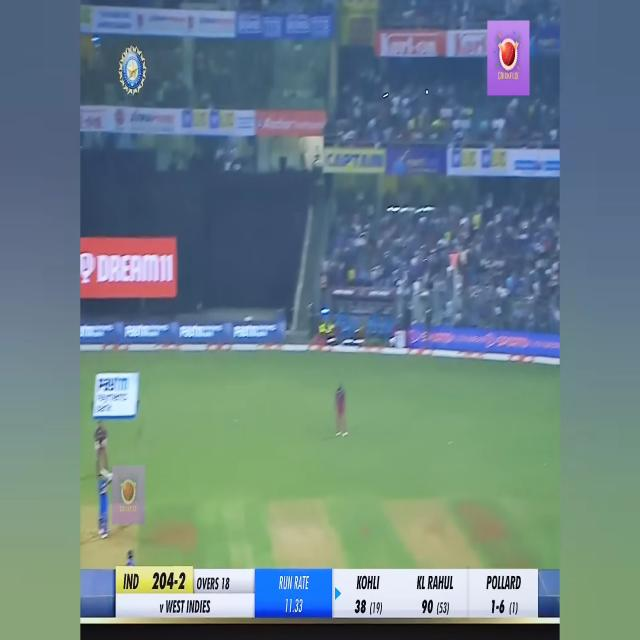partially_visible: (95, 376, 130, 395)
